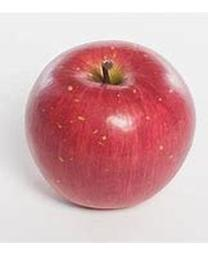apple: (24, 39, 195, 210)
